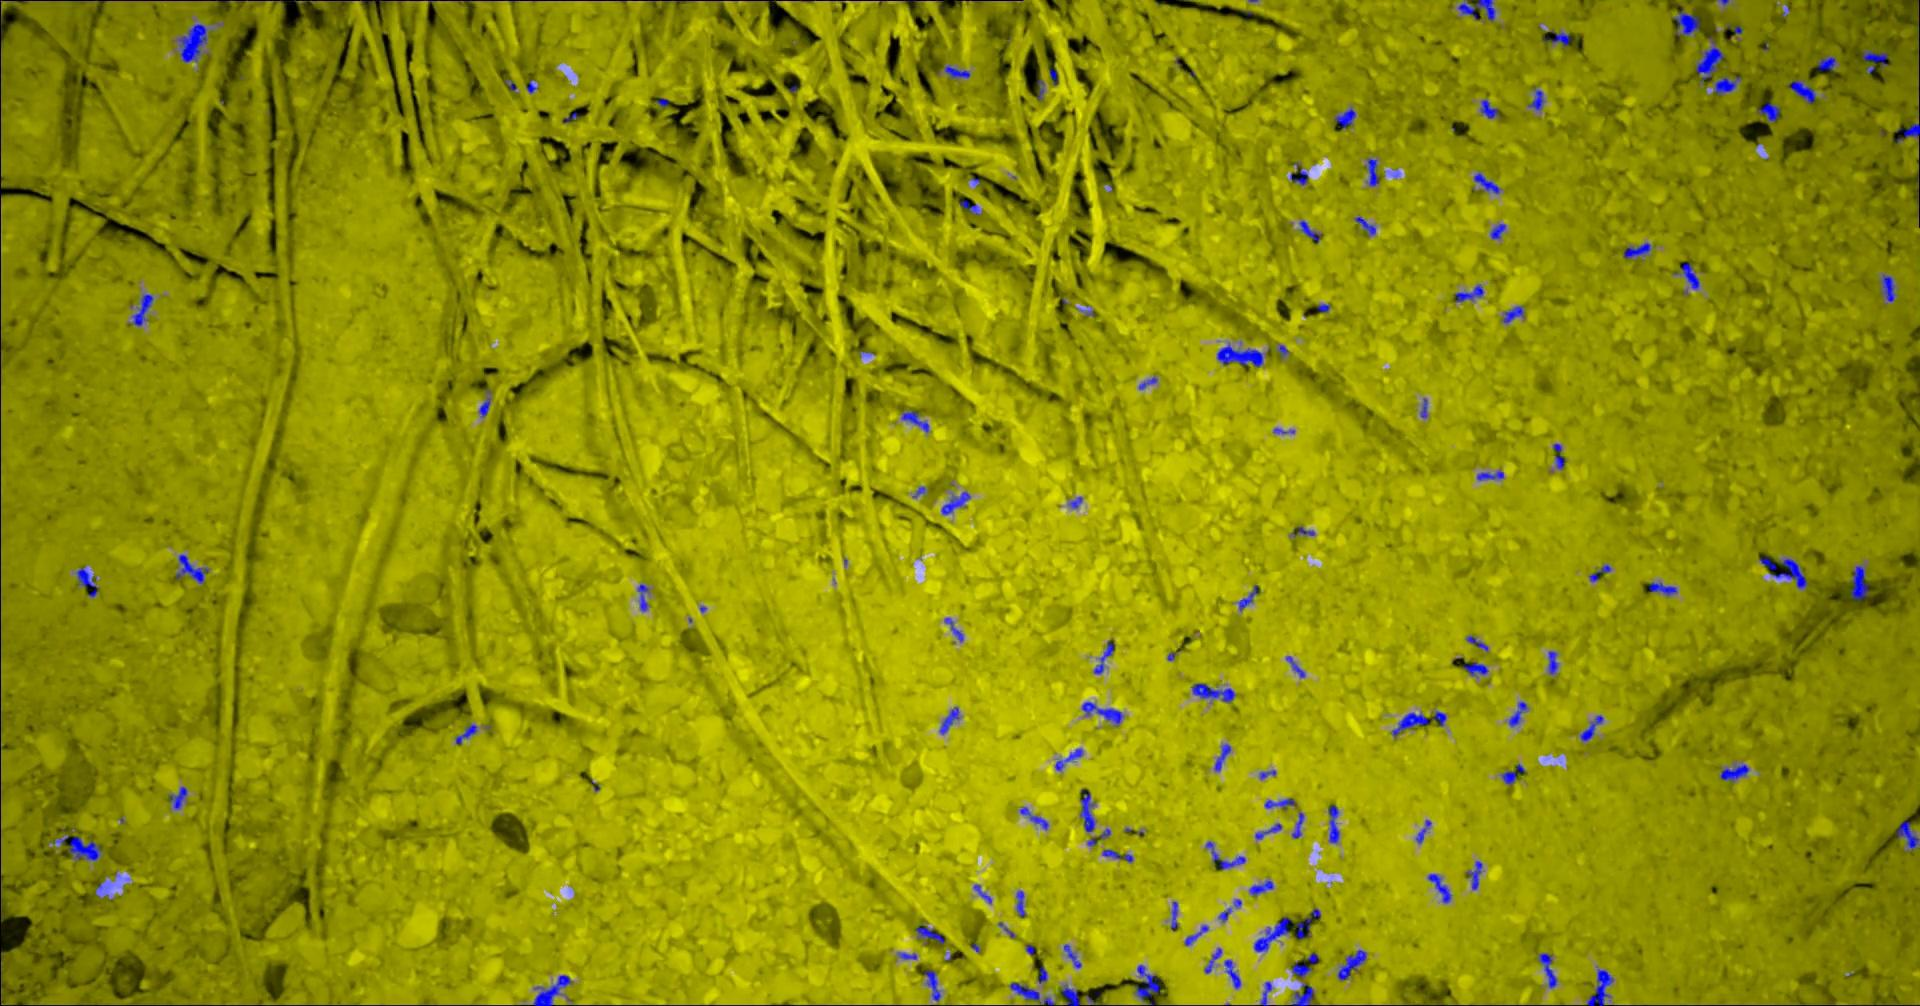ant: (1759, 556, 1807, 588), (1390, 711, 1446, 737), (1695, 36, 1723, 84), (1253, 916, 1290, 951), (50, 835, 100, 860), (533, 974, 571, 1005), (178, 23, 207, 62), (1217, 343, 1262, 367), (1205, 841, 1244, 869), (1134, 964, 1161, 1005), (1010, 982, 1054, 1005), (1081, 701, 1123, 725), (1586, 968, 1613, 1005), (175, 554, 208, 583), (1337, 949, 1365, 981), (1191, 683, 1234, 702), (1457, 0, 1495, 20), (1672, 8, 1699, 36), (1297, 908, 1321, 939), (131, 293, 152, 326), (1427, 873, 1451, 902), (1291, 951, 1318, 977), (1093, 640, 1114, 673), (940, 492, 969, 514), (1018, 807, 1048, 829), (1896, 821, 1919, 850), (1079, 788, 1095, 831), (1849, 565, 1868, 600), (1788, 79, 1815, 103), (1578, 714, 1603, 741), (1538, 953, 1556, 988), (75, 567, 97, 596), (902, 409, 928, 432), (1054, 748, 1082, 770), (1862, 50, 1887, 72), (1473, 171, 1500, 193), (1713, 75, 1740, 95), (1298, 220, 1321, 243), (1719, 763, 1749, 781), (1680, 262, 1699, 288), (923, 969, 940, 1000), (916, 926, 943, 944), (1238, 586, 1258, 610), (1501, 763, 1525, 784), (1183, 925, 1208, 945), (1509, 701, 1528, 727), (938, 708, 957, 733), (1454, 285, 1483, 301), (1465, 860, 1482, 889), (455, 723, 476, 744), (1291, 983, 1313, 1005), (1214, 743, 1230, 771), (943, 617, 963, 641), (1204, 948, 1222, 973), (1327, 804, 1338, 843), (1224, 959, 1239, 988), (1255, 823, 1281, 840), (1335, 108, 1355, 130), (1756, 102, 1779, 121), (1063, 942, 1081, 967), (1102, 848, 1133, 862), (1289, 163, 1308, 184), (1354, 216, 1375, 235), (1285, 655, 1304, 677), (1543, 30, 1570, 46), (1623, 243, 1650, 258), (1879, 274, 1895, 301), (1501, 305, 1524, 323), (1415, 819, 1431, 843), (1364, 158, 1378, 185), (1648, 580, 1676, 594), (1463, 659, 1488, 674), (1060, 984, 1079, 1005), (169, 786, 185, 809), (1087, 828, 1110, 845), (1528, 86, 1543, 111), (1263, 796, 1295, 808), (1897, 122, 1919, 138), (1589, 564, 1610, 580), (1465, 635, 1487, 652), (1250, 880, 1272, 895), (1481, 99, 1498, 118), (973, 884, 990, 903), (957, 199, 982, 213), (943, 65, 969, 77), (1552, 443, 1564, 467), (1291, 812, 1303, 838), (1476, 470, 1503, 480), (637, 583, 648, 611), (1260, 981, 1271, 1005), (1015, 890, 1025, 917), (1817, 56, 1835, 70), (1547, 650, 1557, 674), (477, 398, 490, 417), (1291, 526, 1314, 536), (1490, 224, 1505, 238), (1170, 901, 1177, 929), (1036, 79, 1044, 100), (1037, 965, 1046, 983), (1917, 3, 1919, 72)
